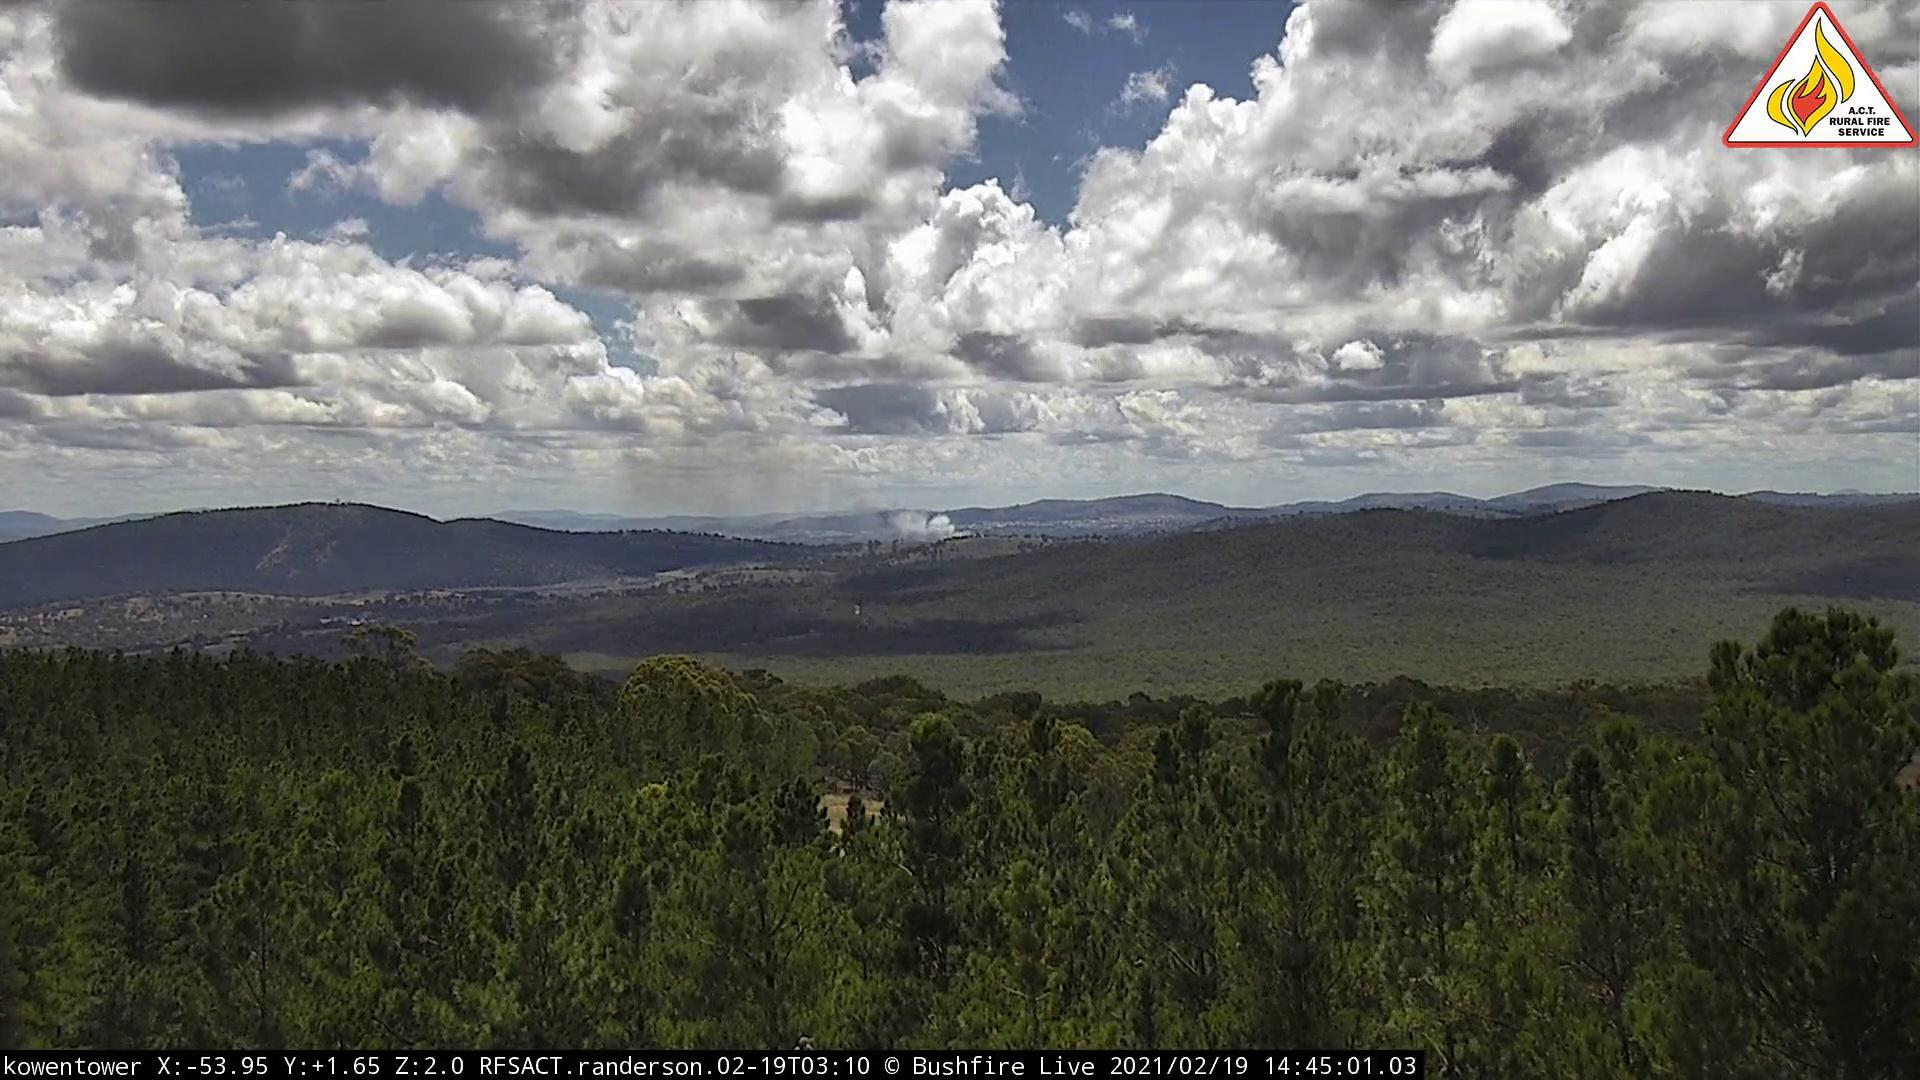instance_salient_object: (583, 410, 975, 550)
